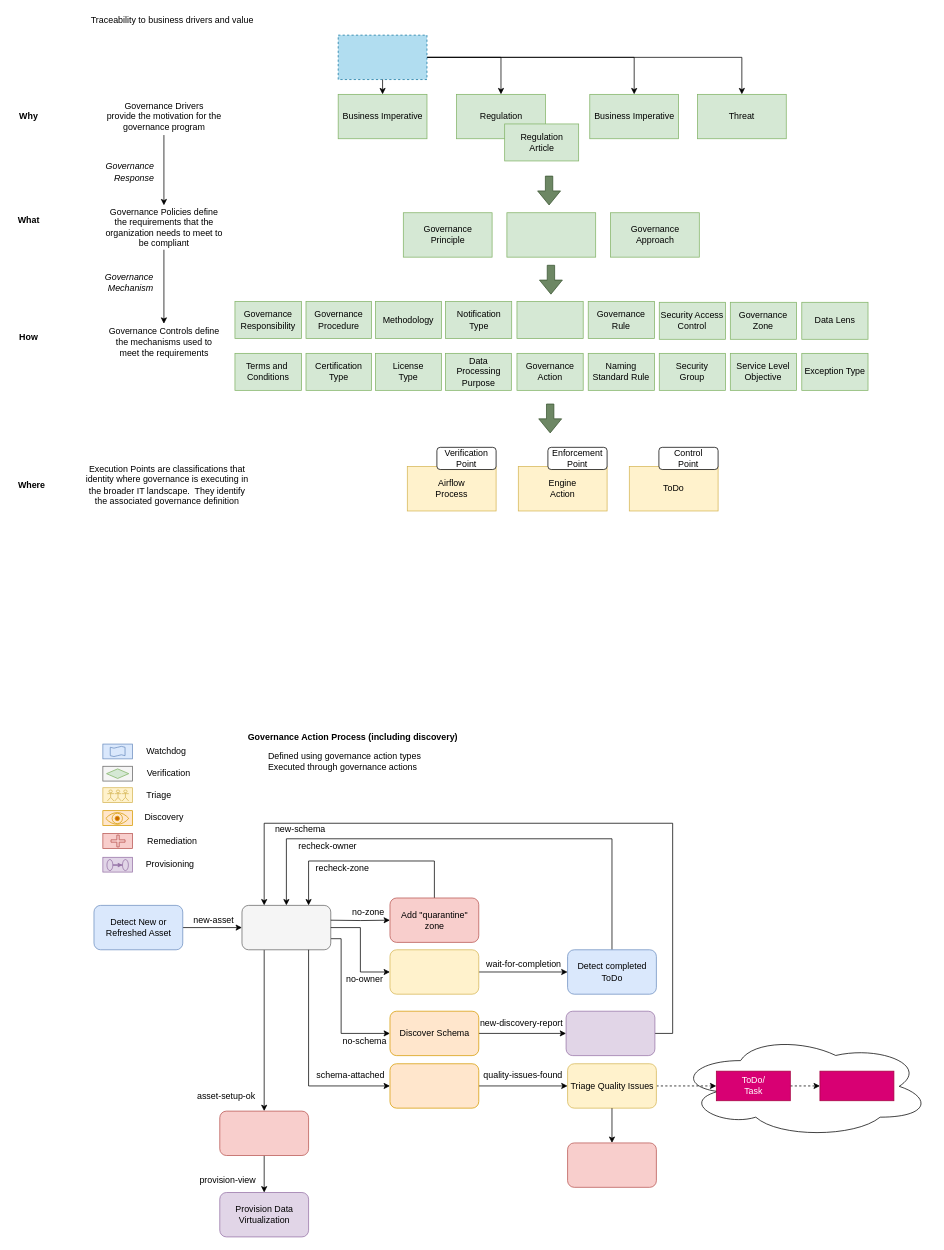
The diagram is 944 pixels wide and 1250 high, and some of its shapes have lost their labels. The shapes that lost their labels are listed below. From the top down, each one's box as (x1, y1, x2, y2) in pixels, then its label:
(337, 34, 427, 80): Business Imperatives
(506, 212, 596, 257): Governance Obligation
(516, 301, 583, 339): Governance Metric
(241, 905, 331, 950): Validate Asset
(389, 949, 479, 994): Add ToDo to assign owner
(565, 1010, 655, 1056): Add Schema
(389, 1063, 479, 1108): Run Quality Checks
(819, 1070, 894, 1101): PersonRole
(219, 1110, 309, 1156): Publish Asset
(567, 1142, 656, 1187): Fix Quality Issue
